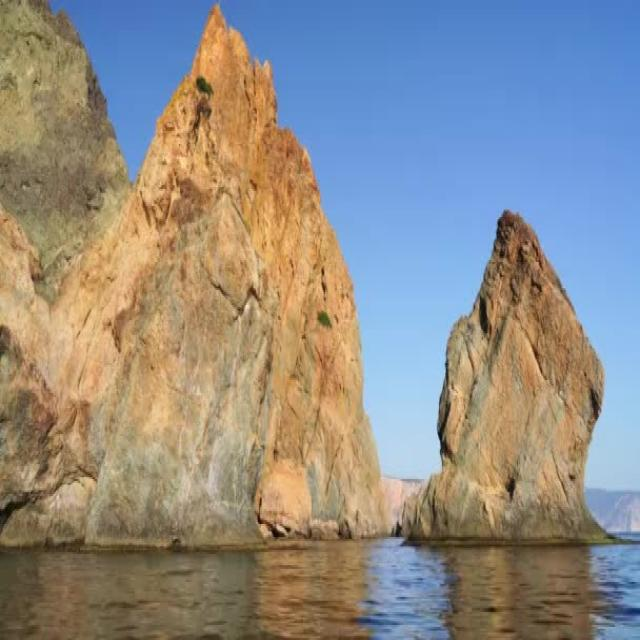reef: (374, 219, 624, 537)
